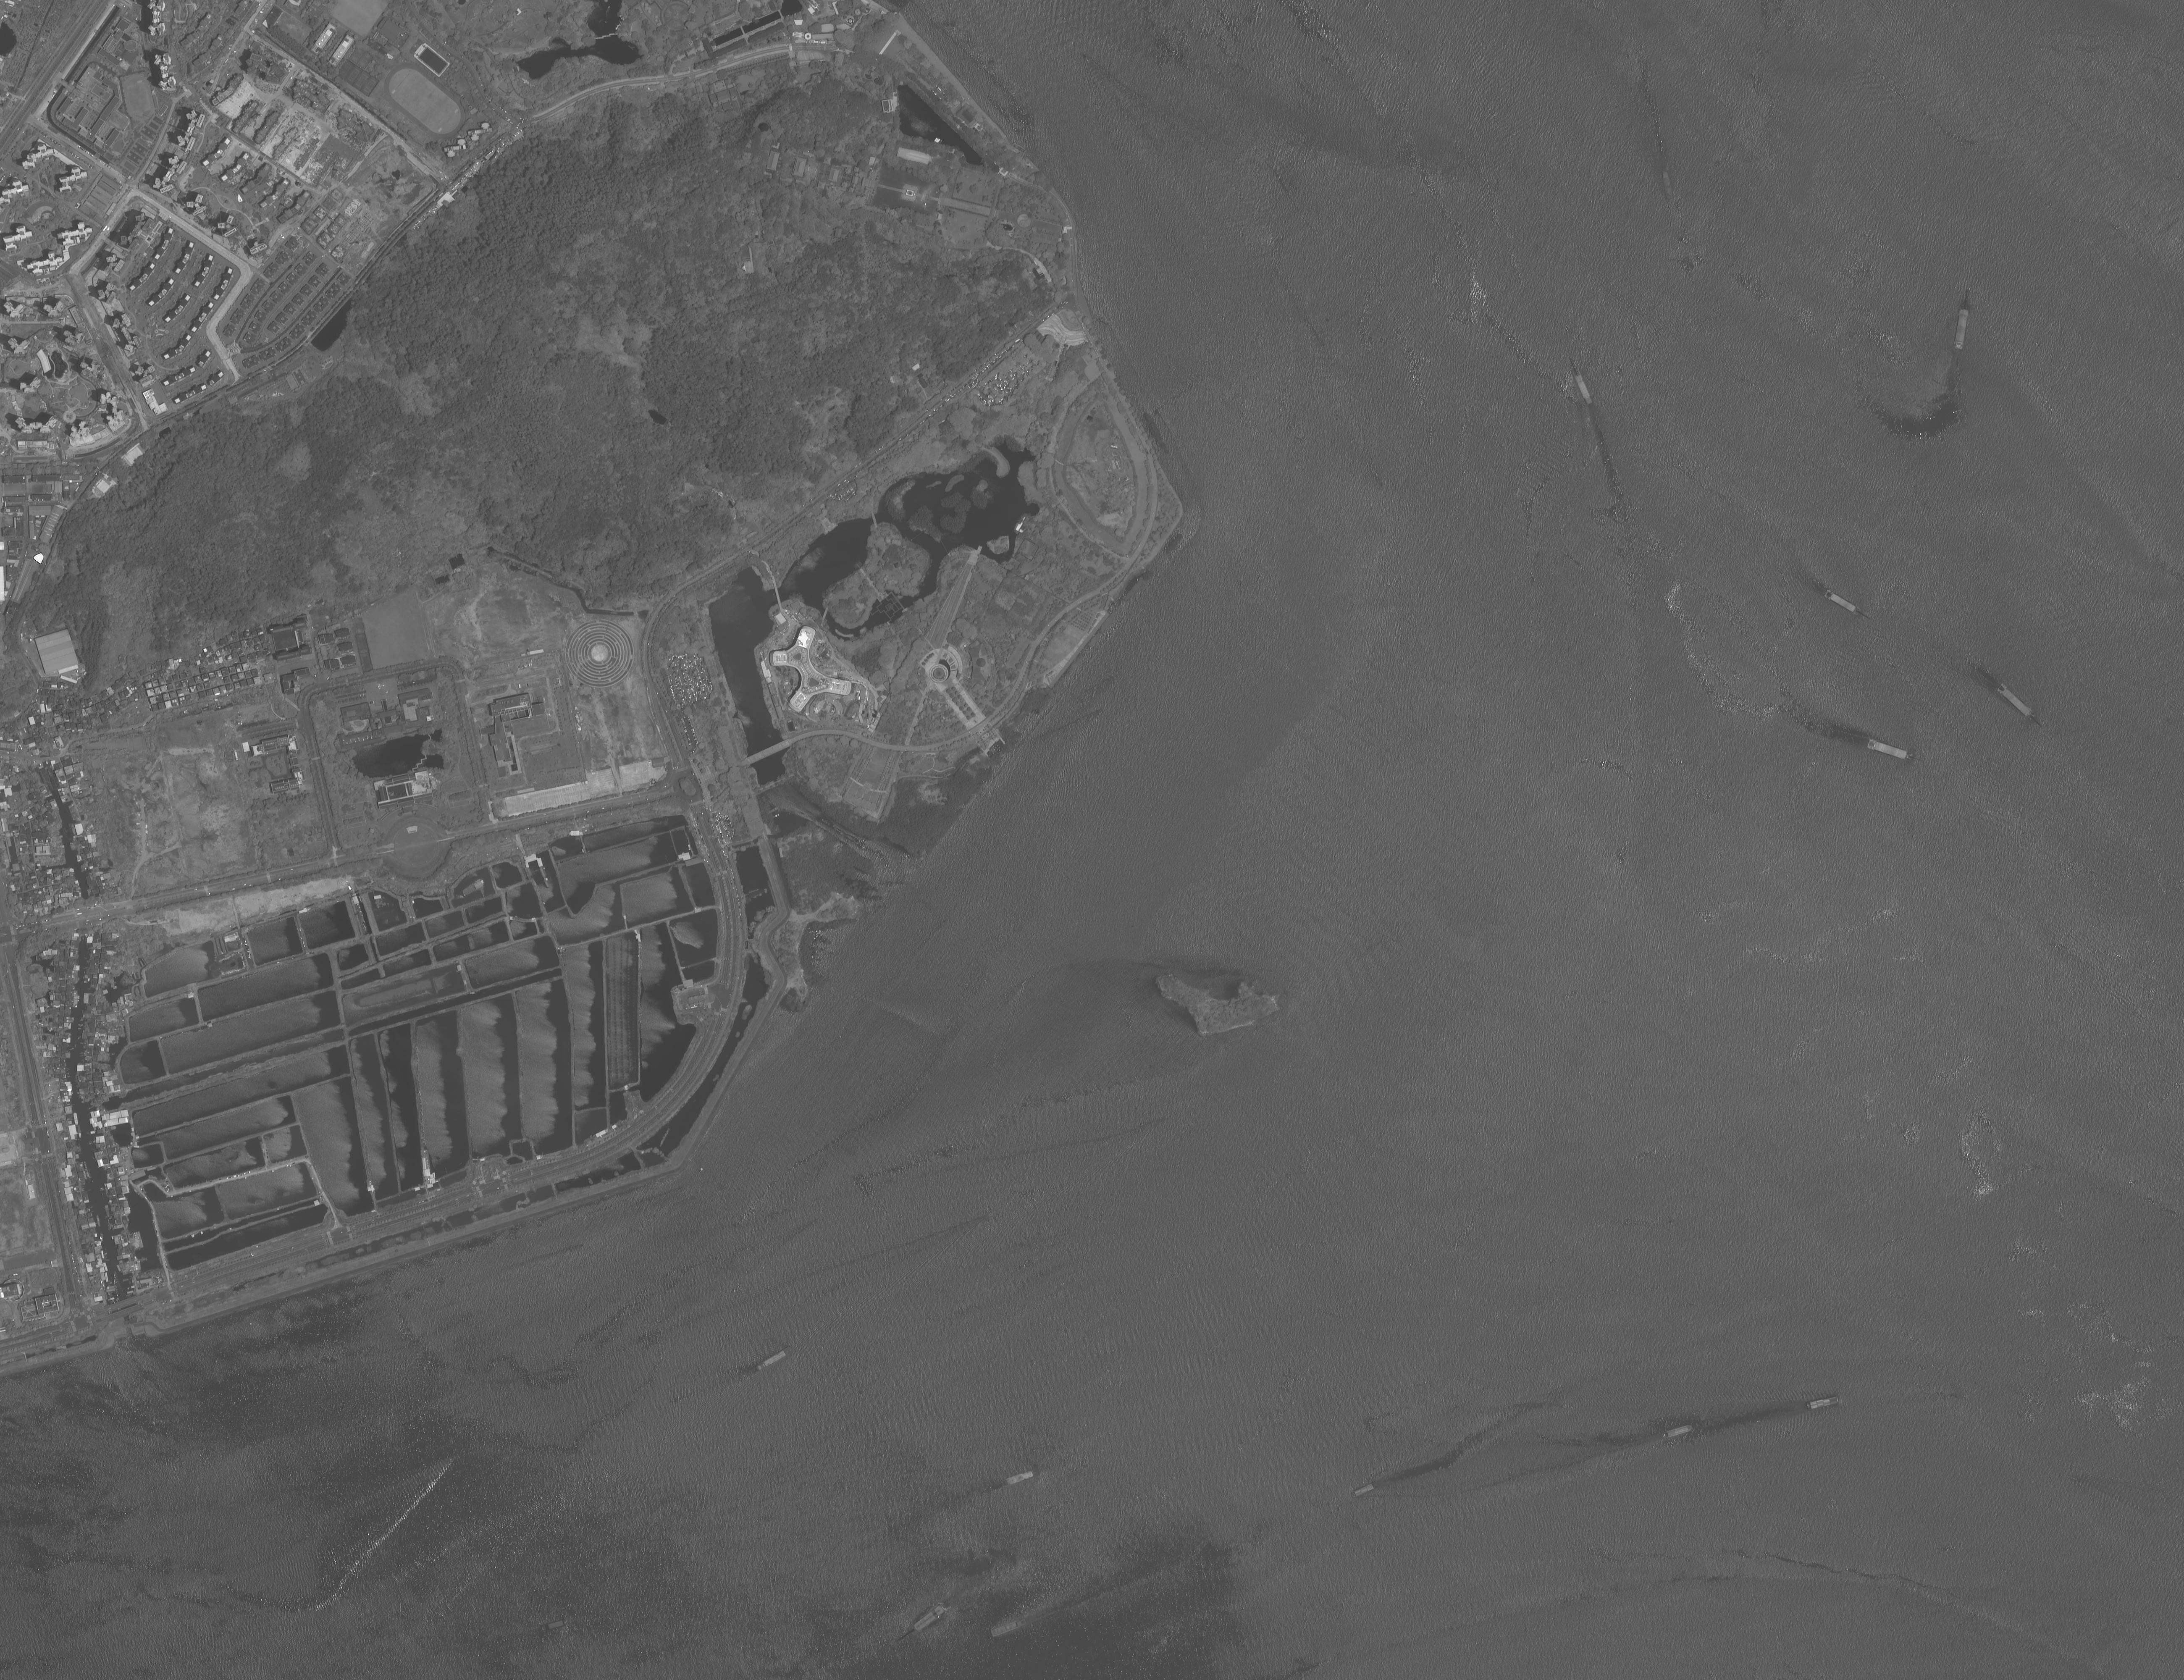ship: (1990, 678, 2043, 725), (1822, 588, 1872, 621), (1866, 738, 1925, 766), (910, 1601, 951, 1636), (1567, 362, 1597, 408), (1949, 296, 1974, 351), (755, 1345, 796, 1373), (986, 1616, 1032, 1641), (1803, 1392, 1844, 1415), (1658, 1421, 1695, 1442), (1348, 1479, 1383, 1500), (1000, 1468, 1037, 1488), (538, 1616, 570, 1634), (1660, 169, 1674, 201)
